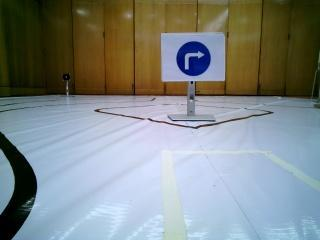right: (167, 36, 226, 82)
